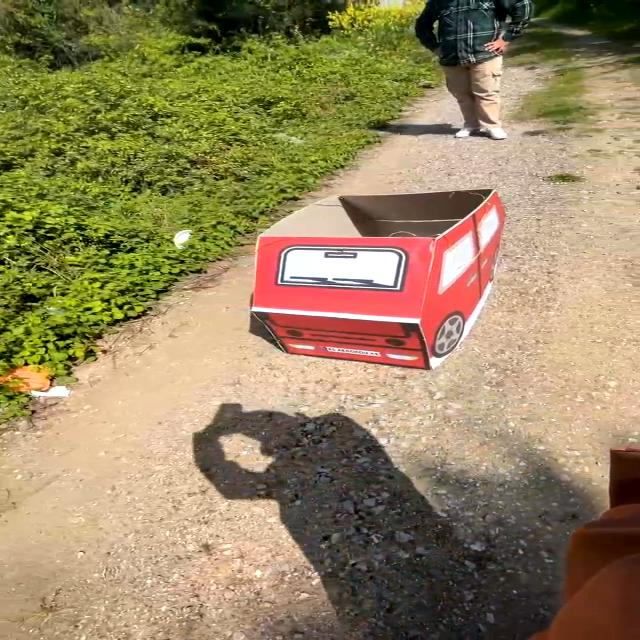red_car: (235, 186, 542, 378)
